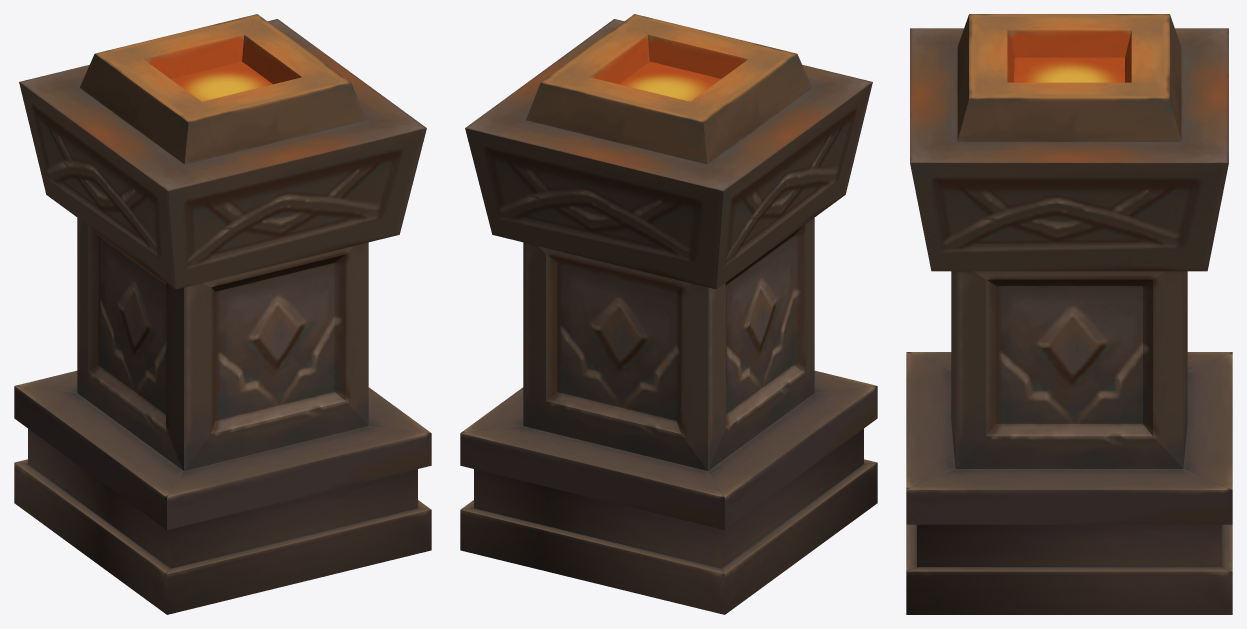
Rendered from Dxlm_xiaohuo.FBX.
The picture shows the model from 3 angles, left to right: view 1: azimuth 30°, elevation 25°; view 2: azimuth 150°, elevation 25°; view 3: azimuth 270°, elevation 25°; orthographic projection. The views are drawn at different scales.
Visible parts, largest first — view 1: Dxlm_xiaohuo; view 2: Dxlm_xiaohuo; view 3: Dxlm_xiaohuo.
Part boxes in pixels (x1,y1,x2,y2): Dxlm_xiaohuo: [14, 14, 431, 614]; Dxlm_xiaohuo: [460, 14, 877, 614]; Dxlm_xiaohuo: [906, 14, 1232, 614].
Size of the model in its own units: 35.46 by 35.46 by 58.72.
